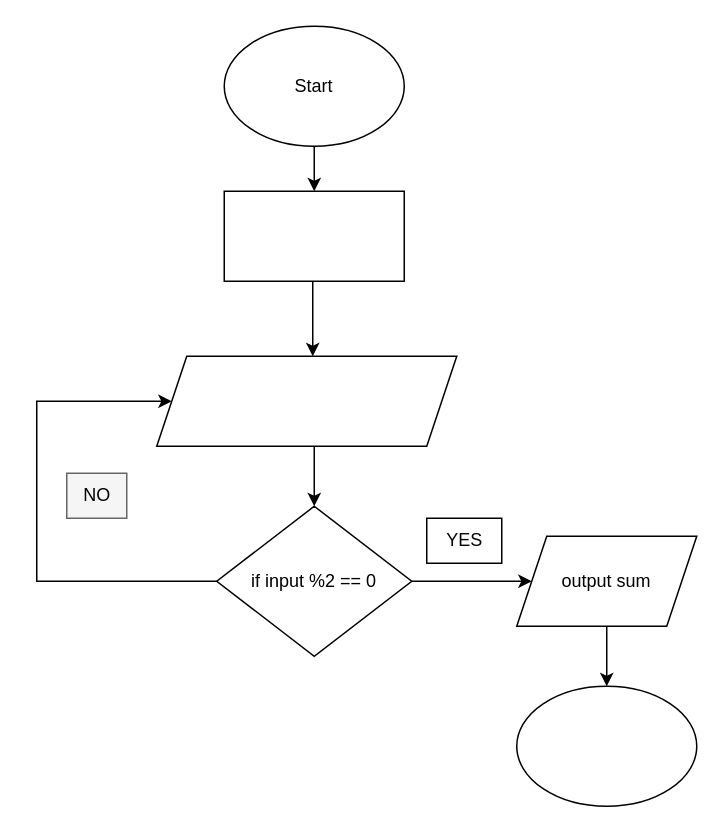
This 723x833 diagram has some shape labels left out. The shapes that lost their labels are listed below. From the top down, each one's centre as x and y in pixels, then its label:
the point at 313,235: sum = 0
the point at 306,400: input [26, 49, 98, 87, 62, 75]
the point at 606,745: stop
